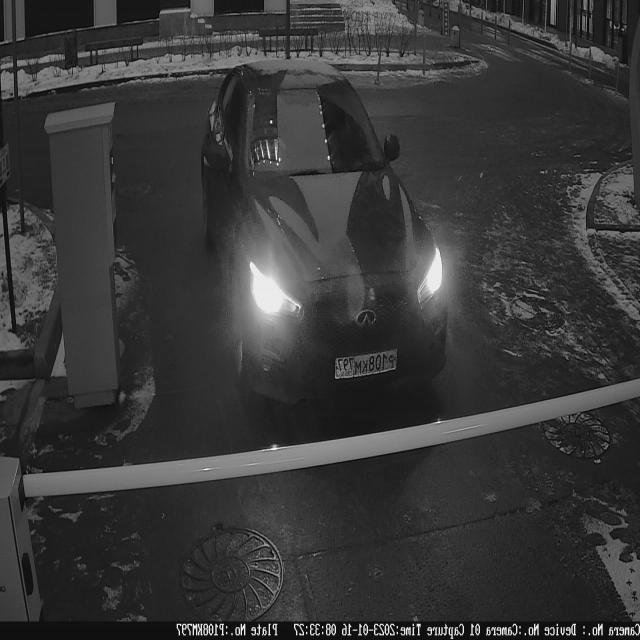car-plate-numbers: (333, 343, 402, 385)
